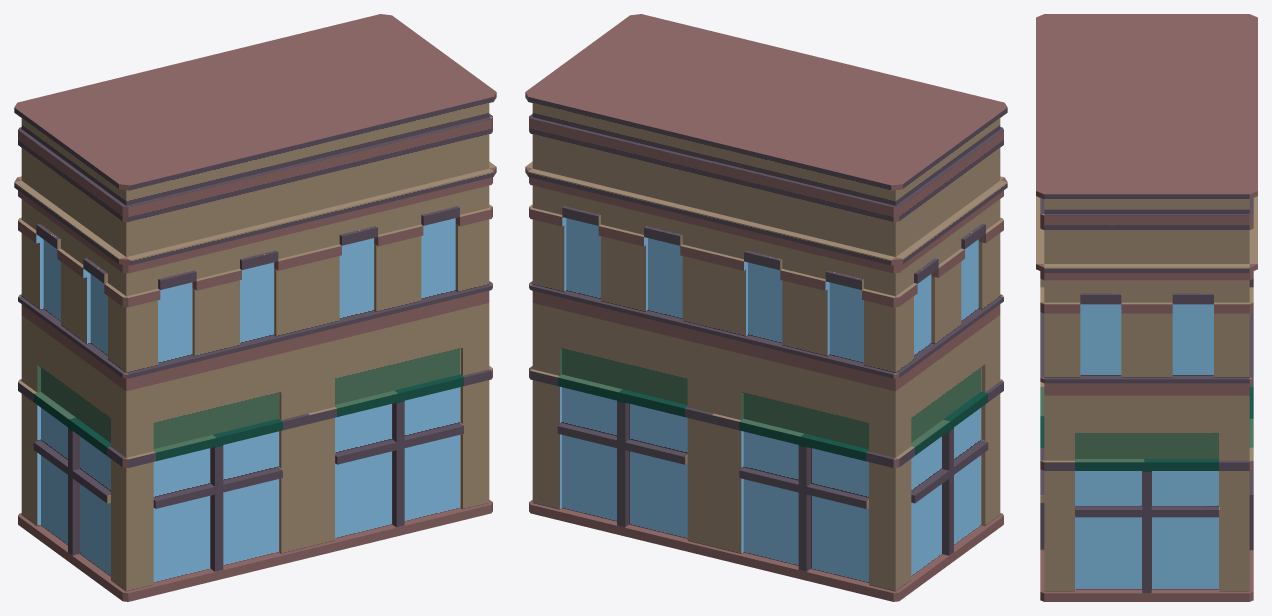
File: building4.glb
3 renders of one model, left to right at view 1: azimuth 30°, elevation 25°; view 2: azimuth 150°, elevation 25°; view 3: azimuth 270°, elevation 25°, orthographic. The views are drawn at different scales.
Parts seen in each view (by area): view 1: 5_front; view 2: 5_front; view 3: 5_front.
Boxes of the visible parts, x1,y1,x2,y2 form: 5_front: (14, 14, 496, 601); 5_front: (525, 14, 1007, 601); 5_front: (1036, 14, 1257, 601).
Bounding box in the file's own units: 10.4 × 11 × 5.4.
6 materials, 6 textured.
